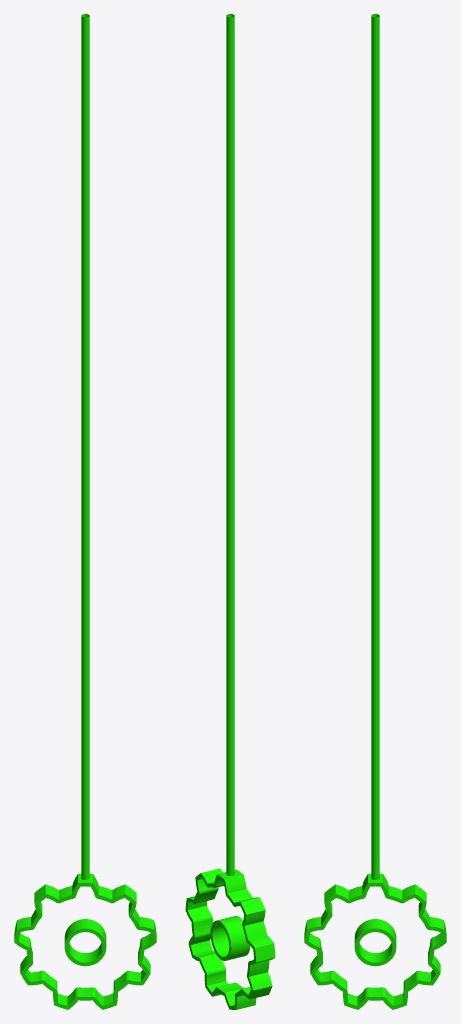
The model's file is cutter3_gear.fbx.
3 renders of one model, left to right at view 1: azimuth 90°, elevation 25°; view 2: azimuth 210°, elevation 25°; view 3: azimuth 270°, elevation 25°, orthographic.
Parts seen in each view (by area): view 1: Cutter3_Gear; view 2: Cutter3_Gear; view 3: Cutter3_Gear.
Boxes of the visible parts, x1=… form: Cutter3_Gear: x1=14, y1=14, x2=156, y2=1009; Cutter3_Gear: x1=185, y1=14, x2=275, y2=1009; Cutter3_Gear: x1=304, y1=14, x2=446, y2=1009.
Size of the model in its own units: 16.87 by 823 by 107.
